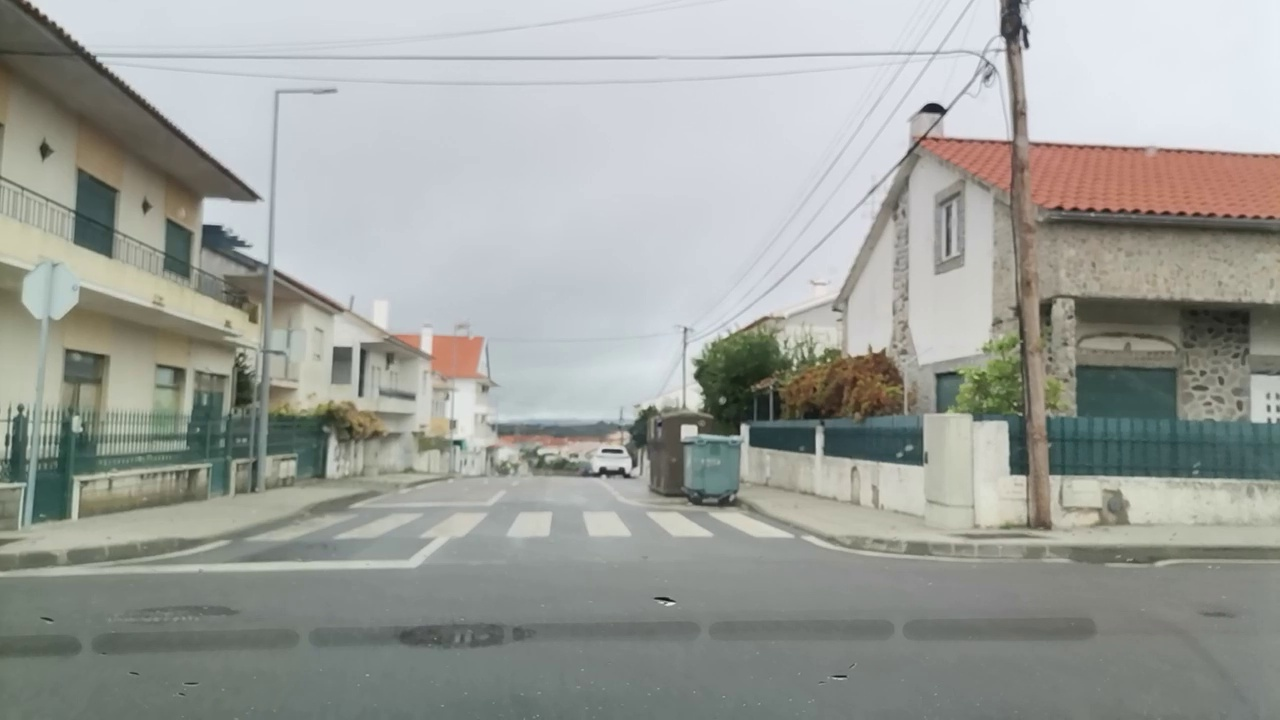Stairs: (249, 509, 801, 539)
